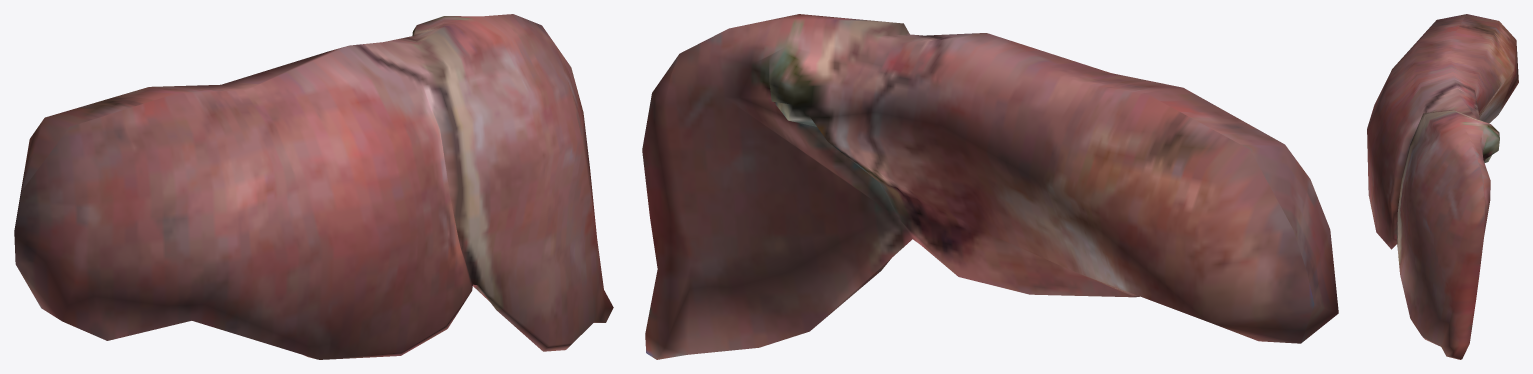
File: eqp_organ_liver_s01_l1.fbx
The picture shows the model from 3 angles, left to right: view 1: azimuth 30°, elevation 25°; view 2: azimuth 150°, elevation 25°; view 3: azimuth 270°, elevation 25°; orthographic projection. The views are drawn at different scales.
Parts seen in each view (by area): view 1: mesh_node; view 2: mesh_node; view 3: mesh_node.
Part boxes in pixels (x1,y1,x2,y2): mesh_node: (14,14,613,359); mesh_node: (642,14,1338,359); mesh_node: (1367,14,1518,359).
Bounding box in the file's own units: 0.3186 × 0.1746 × 0.1172.
